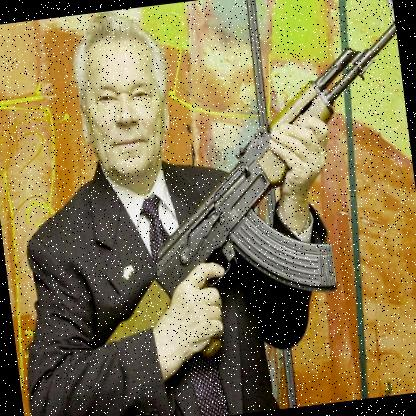rifle: (60, 0, 416, 390)
